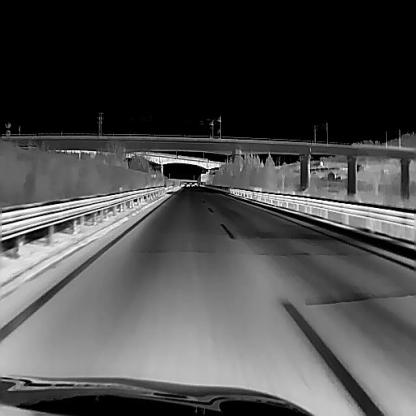car: (185, 180, 190, 187)
